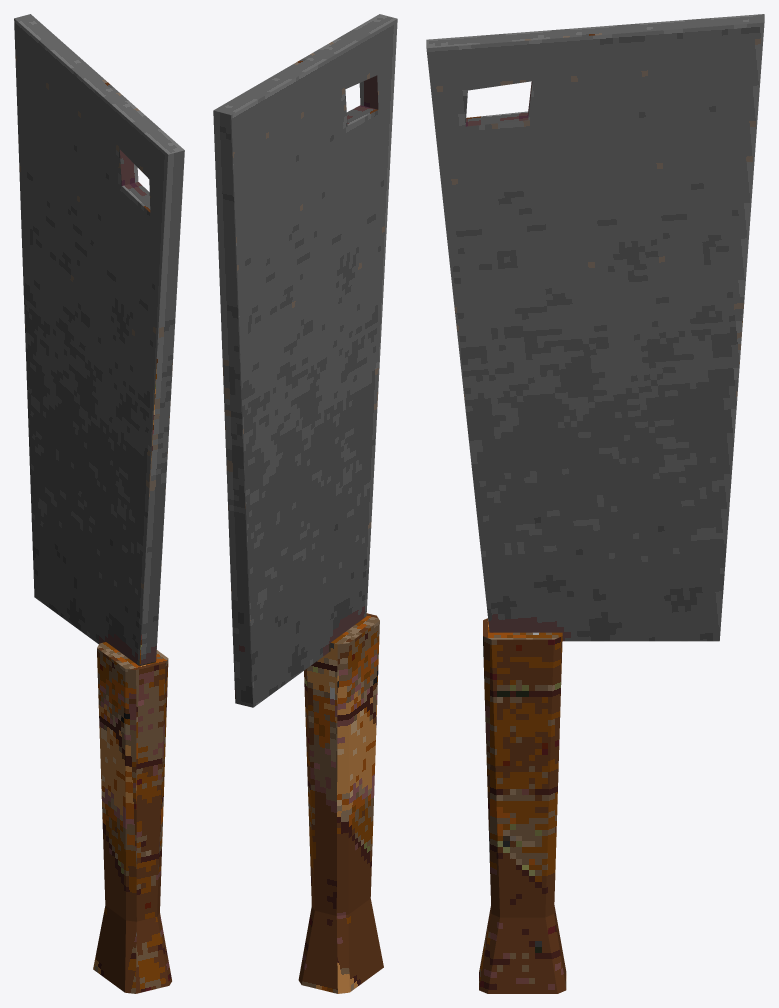
Rendered from melee_cleaver.glb.
The picture shows the model from 3 angles, left to right: view 1: azimuth 30°, elevation 25°; view 2: azimuth 150°, elevation 25°; view 3: azimuth 270°, elevation 25°; orthographic projection. The views are drawn at different scales.
Visible parts, largest first — view 1: Meatcleaver; view 2: Meatcleaver; view 3: Meatcleaver.
Boxes of the visible parts, x1,y1,x2,y2 form: Meatcleaver: (14, 14, 184, 993); Meatcleaver: (213, 14, 397, 993); Meatcleaver: (426, 14, 764, 993).
Size of the model in its own units: 0.0435 by 0.7716 by 0.2455.
1 material, 1 textured.
